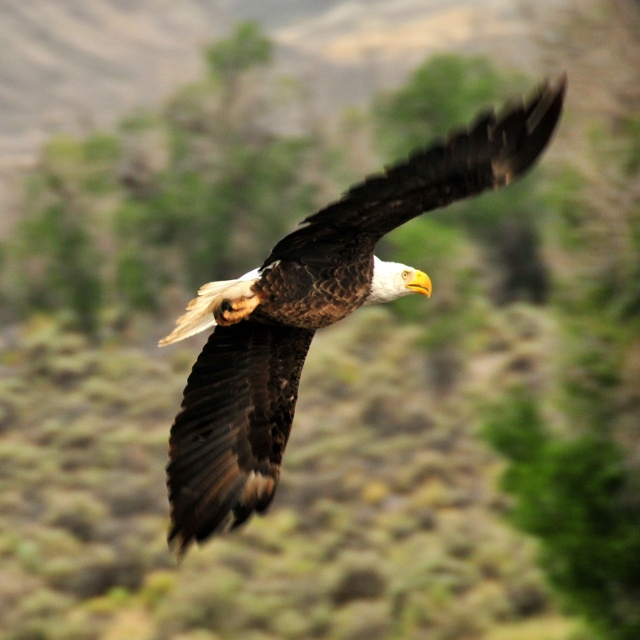Eagle: (153, 69, 571, 561)
